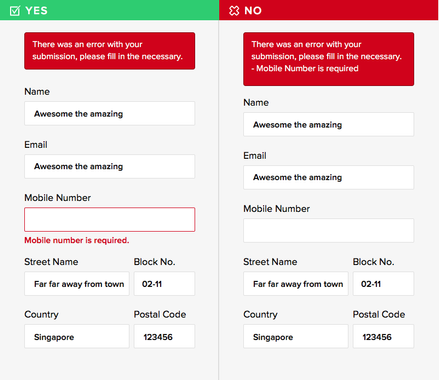error_field: (23, 207, 195, 233)
error_message: (248, 39, 404, 75), (31, 39, 184, 64), (23, 234, 129, 246)
